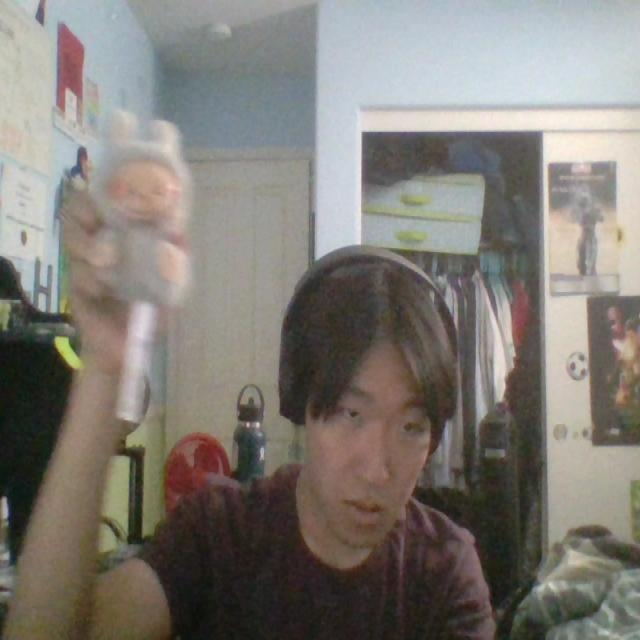labubu: (91, 109, 193, 305)
